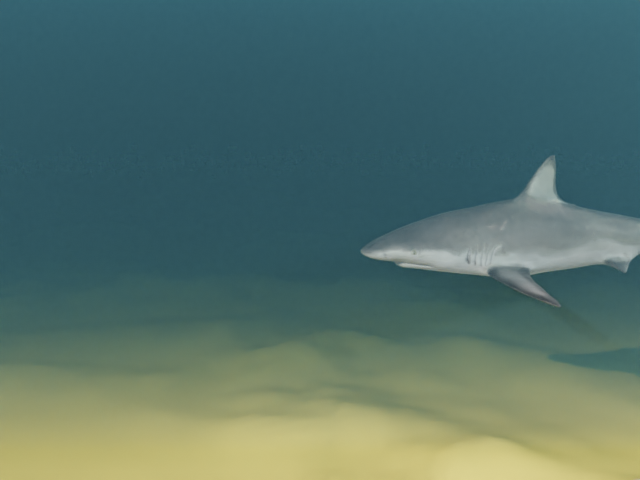Carribean Shark.001: (360, 154, 640, 307)
